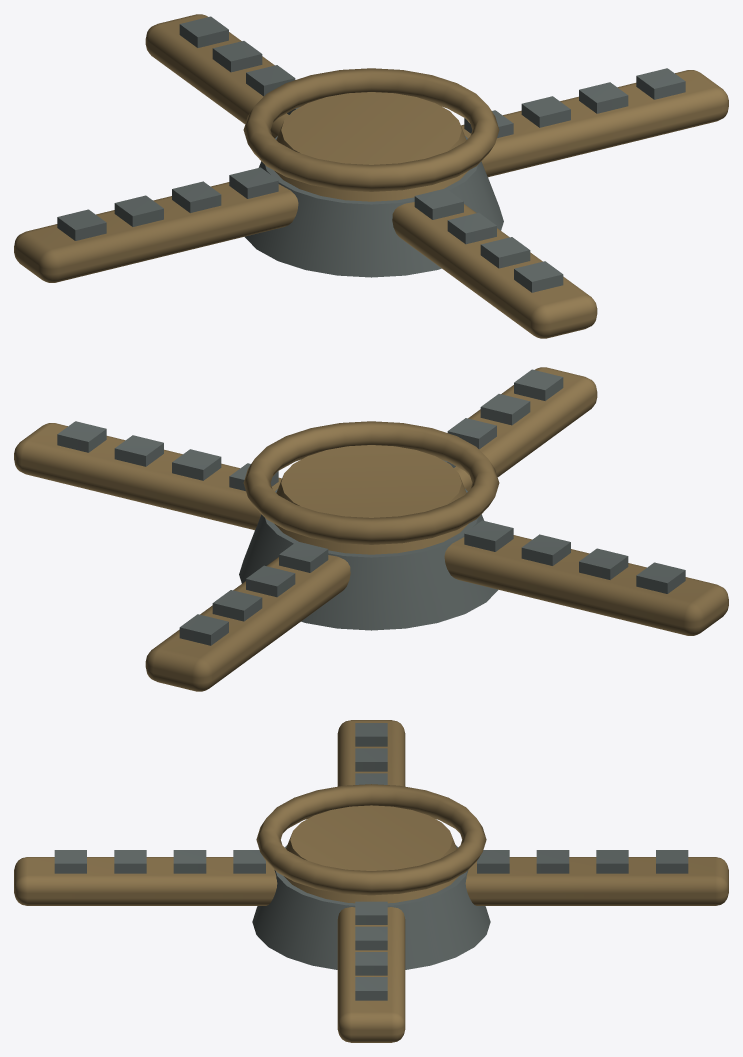
File: rotor.glb
3 renders of one model, top to bottom at view 1: azimuth 30°, elevation 25°; view 2: azimuth 150°, elevation 25°; view 3: azimuth 270°, elevation 25°, orthographic. The views are drawn at different scales.
Parts seen in each view (by area): view 1: correction-bronze, correction-dark; view 2: correction-bronze, correction-dark; view 3: correction-bronze, correction-dark.
Boxes of the visible parts, x1,y1,x2,y2 form: correction-bronze: (14,14,728,338); correction-dark: (57,16,685,292); correction-bronze: (14,367,728,691); correction-dark: (57,369,685,645); correction-bronze: (14,720,728,1042); correction-dark: (54,723,688,1000).
Bounding box in the file's own units: 2.64 × 0.374 × 2.64.
